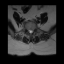CCS_stenosis: (30, 28, 31, 34)
LFS_normal: (33, 27, 34, 33)
LLS_normal: (31, 28, 33, 34)
RFS_normal: (26, 27, 28, 33)
RLS_normal: (28, 28, 30, 34)
